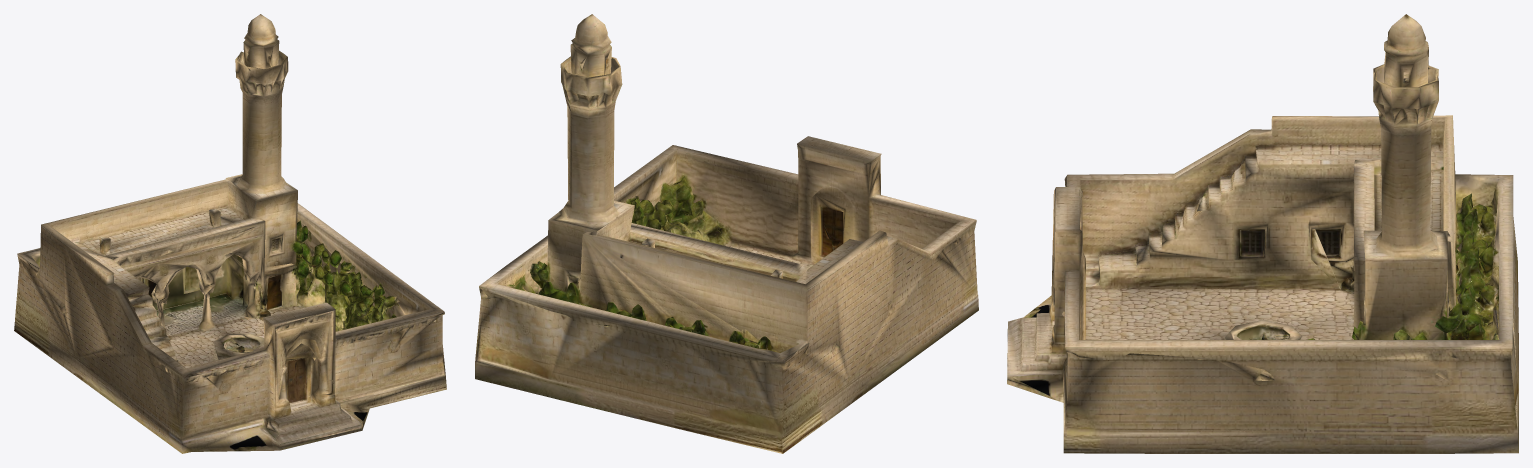
The model's file is city_mardin_minaret_courtyard.glb.
3 renders of one model, left to right at view 1: azimuth 30°, elevation 25°; view 2: azimuth 150°, elevation 25°; view 3: azimuth 270°, elevation 25°, orthographic. The views are drawn at different scales.
Parts seen in each view (by area): view 1: Mesh1.0; view 2: Mesh1.0; view 3: Mesh1.0.
Part boxes in pixels (x1=…): Mesh1.0: x1=14, y1=14, x2=446, y2=453; Mesh1.0: x1=475, y1=14, x2=978, y2=453; Mesh1.0: x1=1007, y1=14, x2=1518, y2=453.
Size of the model in its own units: 4.28 by 4.6 by 5.32.
1 material, 1 textured.
